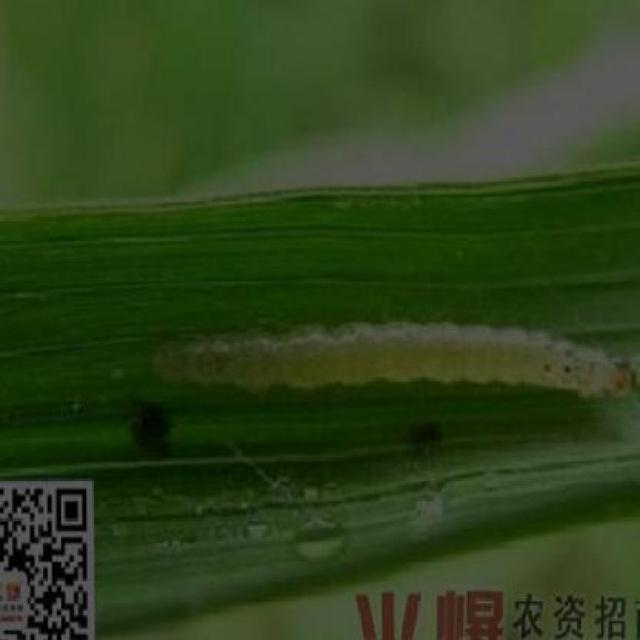leaf-folder: (161, 292, 640, 438)
